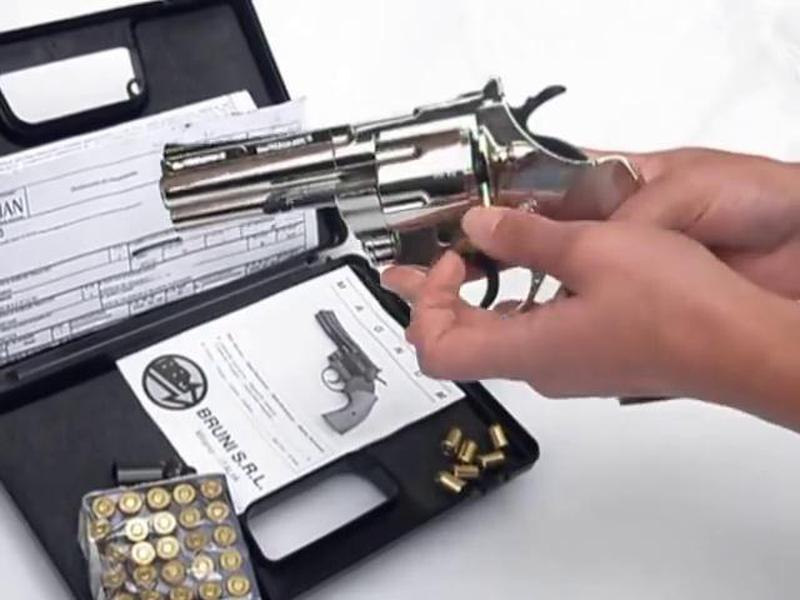Revolver: (173, 79, 699, 377)
